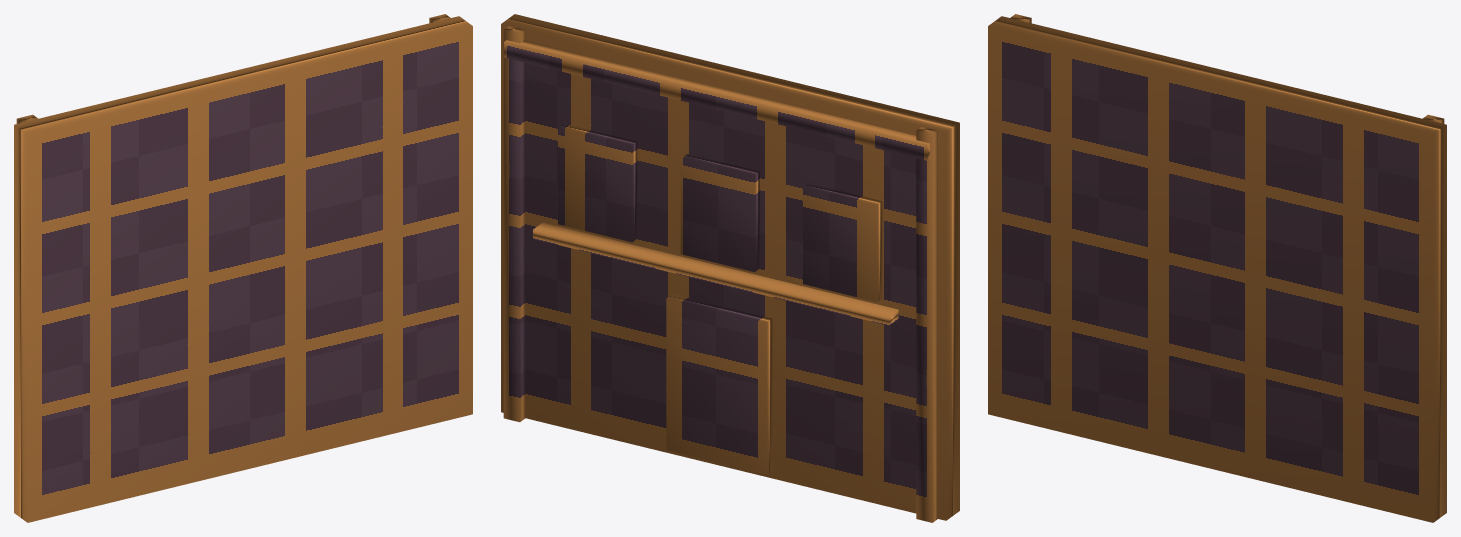
File: SM_Env_CairoFacade_B_LOD1.obj
The picture shows the model from 3 angles, left to right: view 1: azimuth 30°, elevation 25°; view 2: azimuth 150°, elevation 25°; view 3: azimuth 330°, elevation 25°; orthographic projection.
Visible parts, largest first — view 1: SM_Env_CairoFacade_B_LOD1; view 2: SM_Env_CairoFacade_B_LOD1; view 3: SM_Env_CairoFacade_B_LOD1.
Boxes of the visible parts, x1,y1,x2,y2 form: SM_Env_CairoFacade_B_LOD1: (14,14,472,522); SM_Env_CairoFacade_B_LOD1: (501,14,959,522); SM_Env_CairoFacade_B_LOD1: (988,14,1446,522).
Bounding box in the file's own units: 6 × 5 × 0.61.
Materials: 1 (1 with a texture image).
